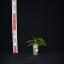leaf: (36, 38, 46, 46), (25, 40, 36, 45), (29, 34, 36, 41), (36, 41, 44, 46), (28, 42, 35, 47), (36, 44, 42, 46)
